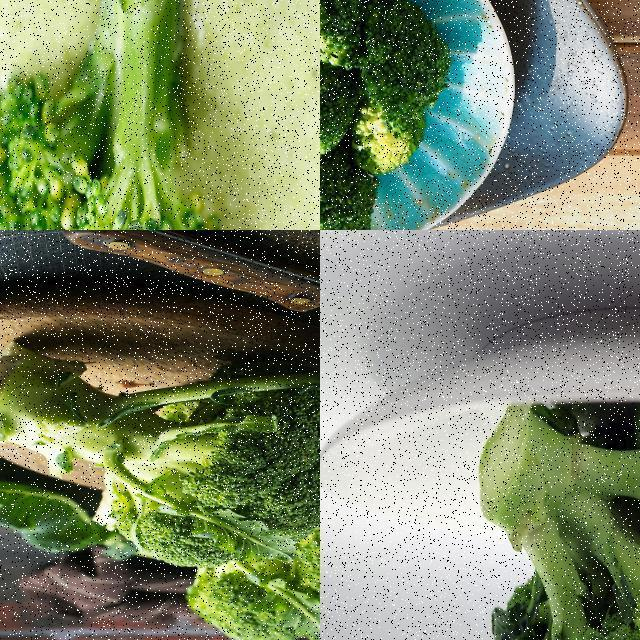broccoli: (0, 330, 319, 569), (0, 0, 235, 229), (477, 401, 639, 639), (183, 488, 319, 639), (355, 0, 453, 135), (320, 139, 388, 229)
